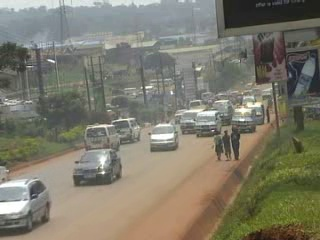Car: (0, 176, 54, 231), (71, 145, 124, 186), (147, 121, 180, 152), (172, 107, 188, 125)
Motorcycle: (0, 158, 12, 184)
